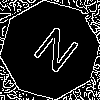N: (25, 25, 81, 83)
